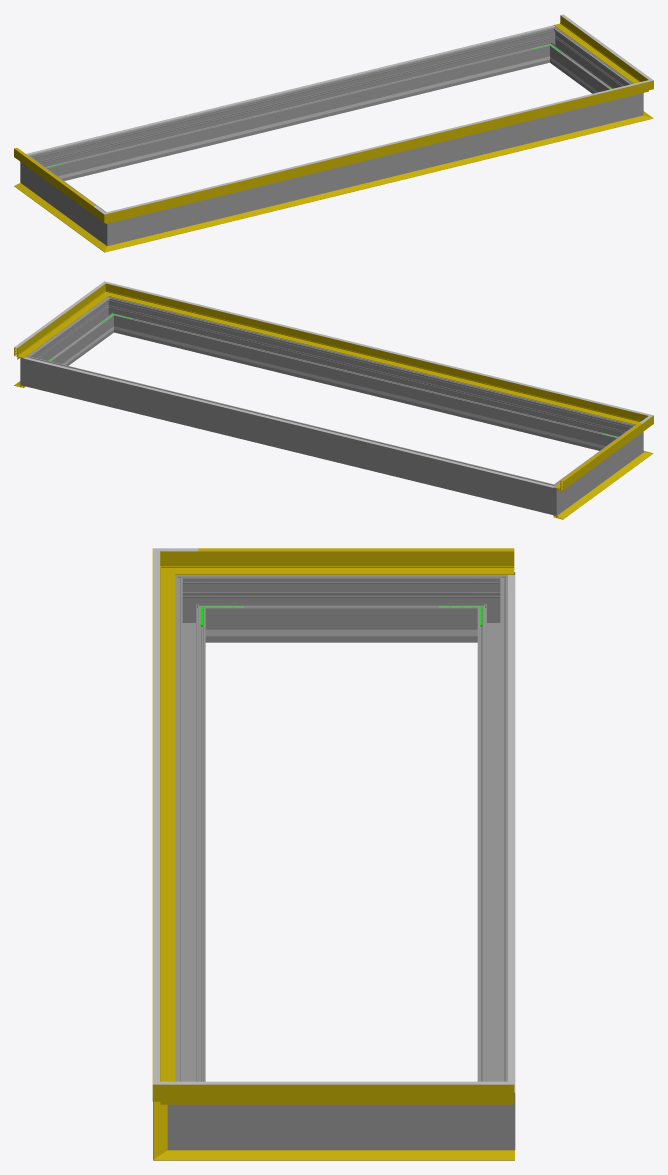
3 renders of one model, top to bottom at view 1: azimuth 30°, elevation 25°; view 2: azimuth 150°, elevation 25°; view 3: azimuth 270°, elevation 25°, orthographic. The views are drawn at different scales.
Visible parts, largest first — view 1: 3DGeom-278, 3DGeom-300, 3DGeom-56, 3DGeom-28, 3DGeom-299, 3DGeom-246, 3DGeom-270, 3DGeom-222, 3DGeom-58, 3DGeom-66, 3DGeom-50, 3DGeom-38 (+4 smaller); view 2: 3DGeom-300, 3DGeom-278, 3DGeom-56, 3DGeom-299, 3DGeom-241, 3DGeom-270, 3DGeom-222, 3DGeom-58, 3DGeom-66, 3DGeom-280, 3DGeom-50, 3DGeom-38 (+3 smaller); view 3: 3DGeom-270, 3DGeom-278, 3DGeom-300, 3DGeom-299, 3DGeom-56, 3DGeom-50, 3DGeom-58, 3DGeom-222, 3DGeom-66, 3DGeom-30, 3DGeom-286, 3DGeom-292 (+7 smaller).
Part boxes in pixels (x1,y1,x2,y2): 3DGeom-278: [42, 30, 546, 180]; 3DGeom-300: [127, 98, 623, 241]; 3DGeom-56: [122, 85, 634, 219]; 3DGeom-28: [121, 118, 633, 247]; 3DGeom-299: [551, 33, 628, 93]; 3DGeom-246: [65, 61, 530, 177]; 3DGeom-270: [31, 162, 101, 237]; 3DGeom-222: [26, 25, 554, 155]; 3DGeom-58: [554, 15, 639, 82]; 3DGeom-66: [122, 84, 633, 209]; 3DGeom-50: [14, 148, 92, 214]; 3DGeom-38: [14, 183, 99, 243]; 3DGeom-300: [117, 300, 621, 450]; 3DGeom-278: [40, 360, 540, 510]; 3DGeom-56: [118, 287, 632, 422]; 3DGeom-299: [35, 303, 112, 365]; 3DGeom-241: [133, 330, 598, 447]; 3DGeom-270: [562, 432, 632, 507]; 3DGeom-222: [23, 357, 554, 487]; 3DGeom-58: [14, 290, 102, 359]; 3DGeom-66: [122, 286, 633, 411]; 3DGeom-280: [537, 479, 567, 515]; 3DGeom-50: [554, 424, 642, 492]; 3DGeom-38: [553, 458, 642, 519]; 3DGeom-270: [213, 575, 469, 642]; 3DGeom-278: [477, 591, 507, 1081]; 3DGeom-300: [175, 591, 205, 1081]; 3DGeom-299: [213, 1104, 469, 1150]; 3DGeom-56: [152, 568, 175, 1081]; 3DGeom-50: [198, 551, 514, 574]; 3DGeom-58: [198, 1084, 514, 1104]; 3DGeom-222: [508, 574, 515, 1092]; 3DGeom-66: [153, 567, 159, 1065]; 3DGeom-30: [198, 1150, 514, 1160]; 3DGeom-286: [470, 1076, 515, 1150]; 3DGeom-292: [167, 1076, 212, 1150].
Bounding box in the file's own units: 4.27 × 0.2831 × 1.22.
